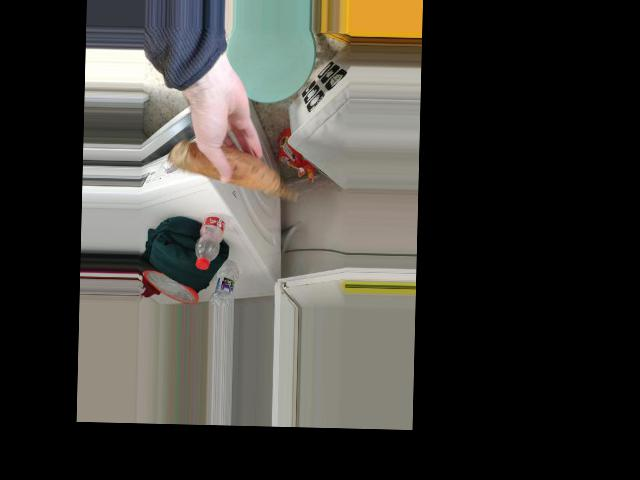sweet_potato: (175, 136, 295, 205)
